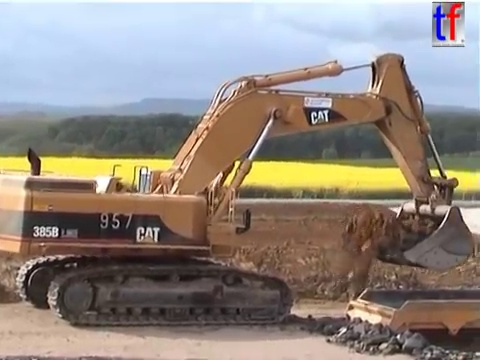excavator: (1, 50, 477, 330)
truck: (341, 284, 480, 353)
